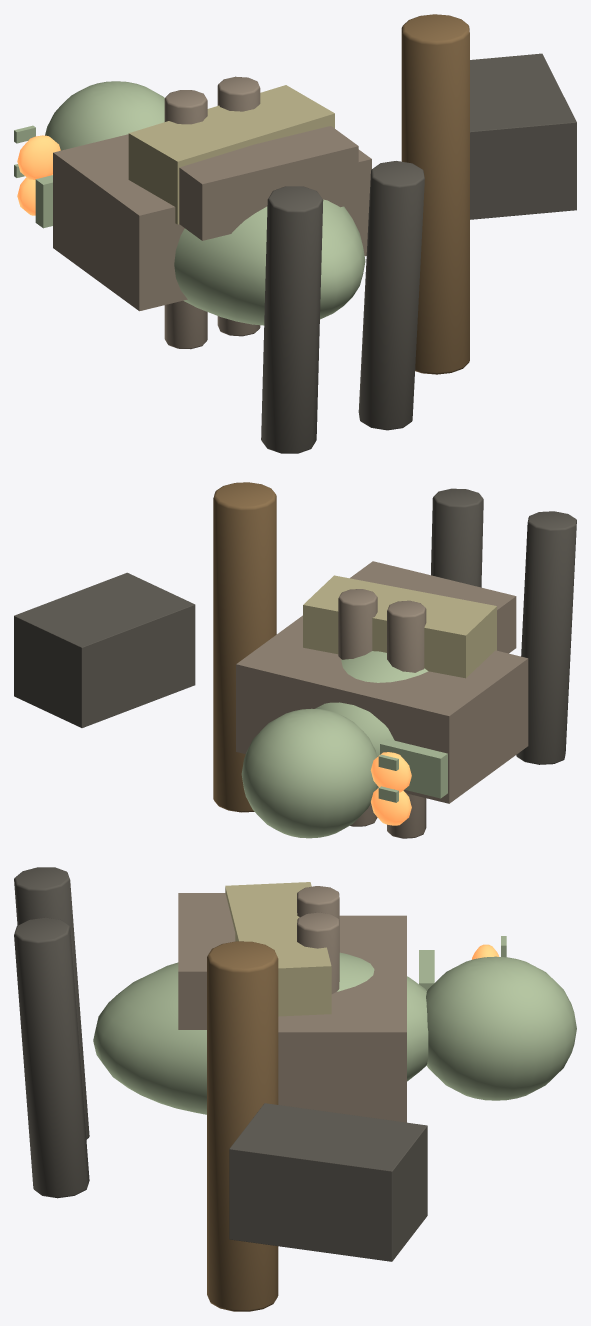
Rendered from gargantuar.glb.
3 views of the same model, one above another, from view 1: azimuth 30°, elevation 25°; view 2: azimuth 150°, elevation 25°; view 3: azimuth 270°, elevation 25° (orthographic). The views are drawn at different scales.
Visible parts, largest first — view 1: club_shaft, chest, club_head, leg, leg.001, strap, torso, armor, head, arm, arm.001, eye.001 (+2 smaller); view 2: chest, club_head, club_shaft, head, leg, armor, leg.001, strap, arm, torso, arm.001, mouth_band (+2 smaller); view 3: club_head, club_shaft, chest, head, leg.001, torso, armor, strap, leg, arm.001, arm, mouth_band.
Boxes of the visible parts, box(x1,y1,x2,y2) form: club_shaft: box(401, 14, 469, 374); chest: box(53, 134, 371, 311); club_head: box(470, 53, 576, 219); leg: box(261, 186, 323, 453); leg.001: box(358, 161, 424, 430); strap: box(179, 126, 358, 240); torso: box(174, 199, 365, 325); armor: box(128, 85, 334, 224); head: box(45, 81, 164, 150); arm: box(164, 90, 207, 349); arm.001: box(217, 76, 260, 336); eye.001: box(17, 135, 60, 179); chest: box(236, 615, 528, 803); club_head: box(14, 572, 195, 727); club_shaft: box(213, 482, 276, 812); head: box(241, 708, 377, 838); leg: box(516, 511, 576, 764); armor: box(303, 575, 496, 678); leg.001: box(431, 488, 483, 587); strap: box(350, 561, 516, 653); arm: box(387, 600, 426, 838); torso: box(315, 651, 428, 788); arm.001: box(338, 589, 377, 826); mouth_band: box(380, 739, 447, 798); club_head: box(229, 1103, 427, 1261); club_shaft: box(207, 941, 278, 1311); chest: box(278, 915, 406, 1122); head: box(426, 956, 576, 1100); leg.001: box(14, 917, 89, 1198); torso: box(93, 952, 428, 1114); armor: box(225, 882, 331, 1016); strap: box(178, 893, 235, 1029); leg: box(14, 867, 89, 1139); arm.001: box(297, 912, 339, 993); arm: box(297, 886, 339, 919); mouth_band: box(419, 950, 434, 990).
Size of the model in its own units: 1.62 by 1.06 by 1.57.
